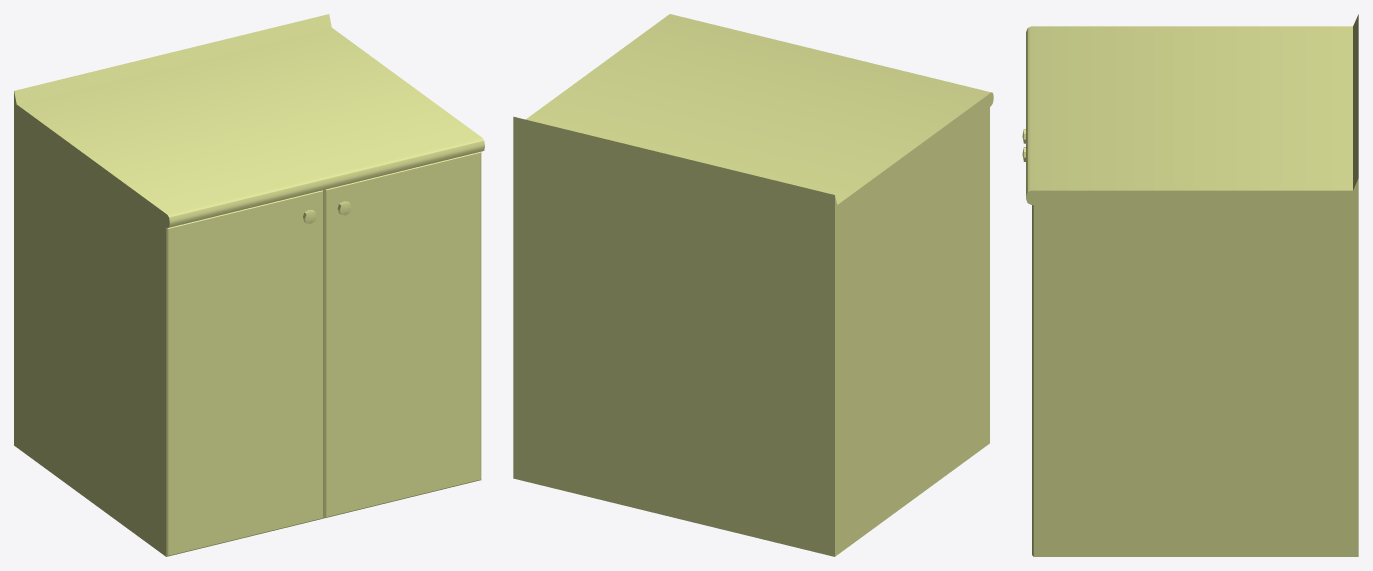
Rendered from cupboard.glb.
3 renders of one model, left to right at view 1: azimuth 30°, elevation 25°; view 2: azimuth 150°, elevation 25°; view 3: azimuth 270°, elevation 25°, orthographic. The views are drawn at different scales.
Visible parts, largest first — view 1: KitchenCabinet1; view 2: KitchenCabinet1; view 3: KitchenCabinet1.
Part boxes in pixels (x1,y1,x2,y2): KitchenCabinet1: (14, 14, 484, 556); KitchenCabinet1: (513, 14, 993, 556); KitchenCabinet1: (1022, 14, 1358, 556).
Size of the model in its own units: 0.8 by 0.8606 by 0.6921.
